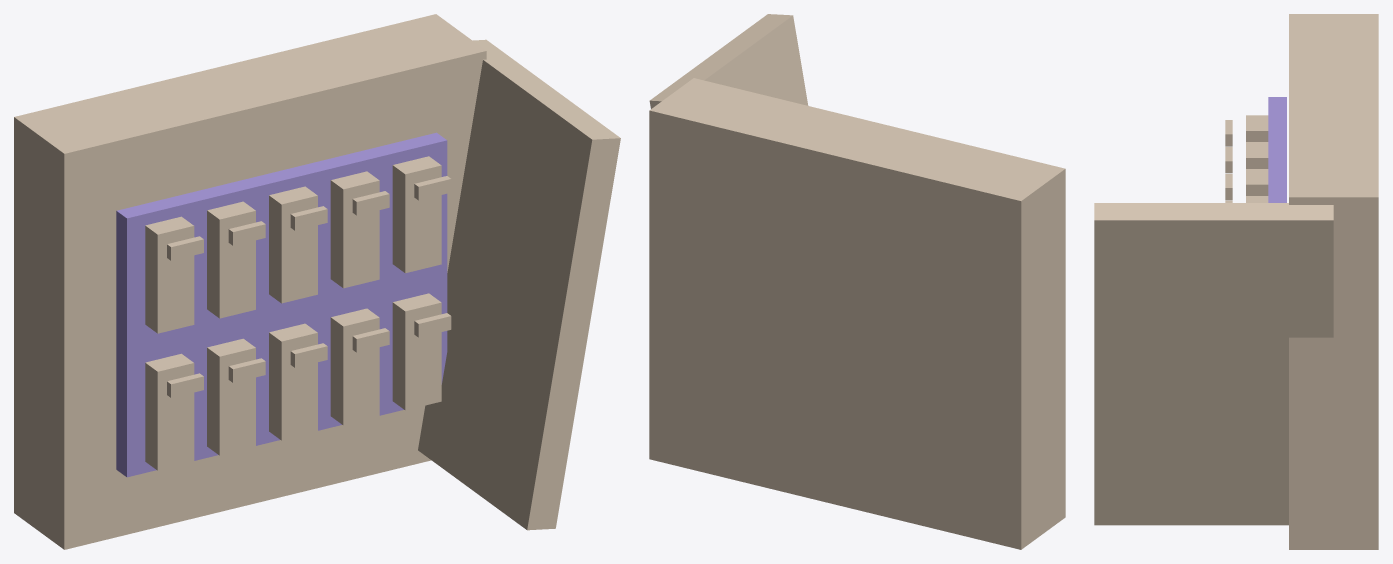
The model's file is panel.gltf.
3 views of the same model, side by side, from view 1: azimuth 30°, elevation 25°; view 2: azimuth 150°, elevation 25°; view 3: azimuth 270°, elevation 25° (orthographic). The views are drawn at different scales.
Parts seen in each view (by area): view 1: housing, door, opening, breaker_3, breaker_8, breaker_9, breaker_4, breaker_0, breaker_5, breaker_2, breaker_7, breaker_1 (+1 smaller); view 2: housing, door; view 3: door, housing, opening, breaker_0, breaker_1, breaker_2.
Part boxes in pixels (box(x1,y1,x2,y2)): housing: box(14, 14, 486, 549); door: box(418, 39, 620, 530); opening: box(116, 132, 447, 477); breaker_3: box(330, 171, 379, 288); breaker_8: box(330, 308, 379, 425); breaker_9: box(392, 293, 441, 410); breaker_4: box(392, 156, 441, 273); breaker_0: box(145, 216, 194, 333); breaker_5: box(145, 353, 194, 470); breaker_2: box(269, 186, 317, 303); breaker_7: box(269, 323, 317, 440); breaker_1: box(207, 201, 255, 318); housing: box(649, 78, 1065, 549); door: box(649, 14, 808, 108); door: box(1094, 203, 1333, 525); housing: box(1289, 14, 1378, 549); opening: box(1268, 97, 1286, 202); breaker_0: box(1246, 115, 1268, 141); breaker_1: box(1246, 142, 1268, 168); breaker_2: box(1246, 169, 1268, 195).
Size of the model in its own units: 0.6144 by 0.52 by 0.38.
